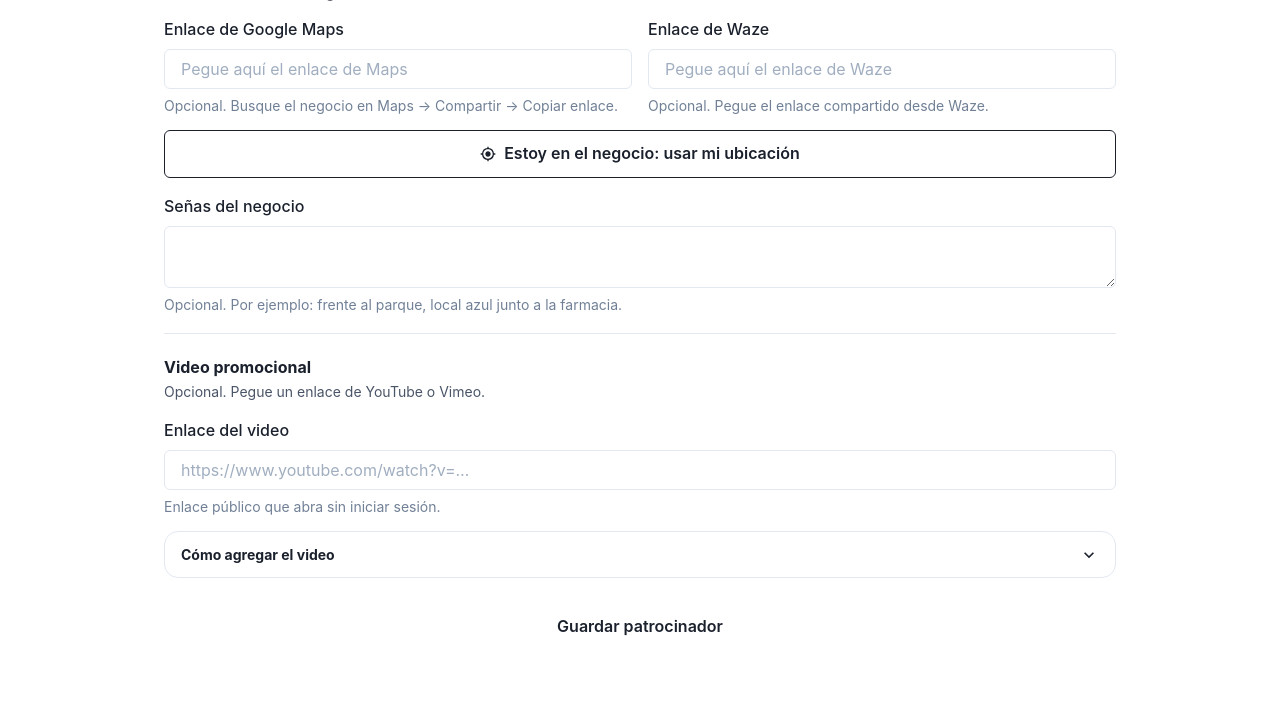
reveals the video error when an unsupported link is in the collapsed section
This screenshot has width=1280, height=710.
(page scrolled)
Step 1. Click the button "Cómo agregar el video" → (258, 555), box [165, 532, 1115, 577]
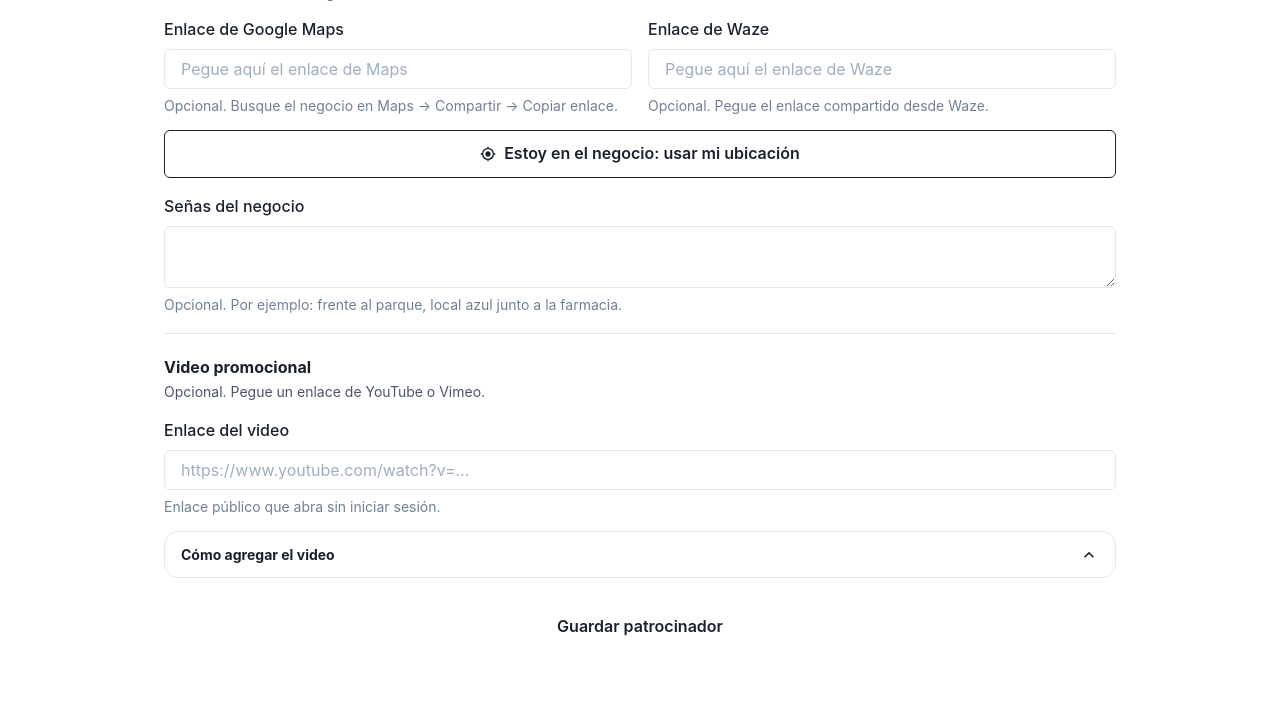
Step 2. Type "https://drive.google.com/file/d/123" into the field labelled "Enlace del video" → (640, 470), box [164, 450, 1116, 490]
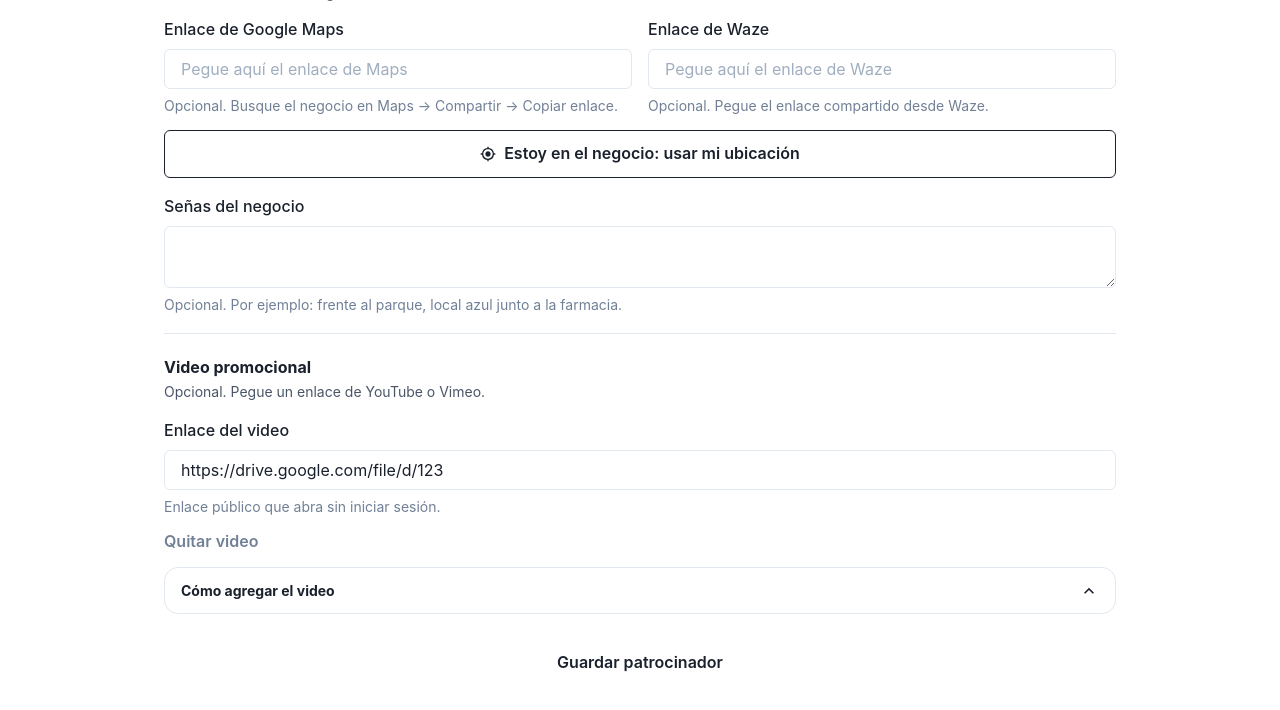
Step 3. Click the button "Cómo agregar el video" → (258, 591), box [165, 568, 1115, 613]
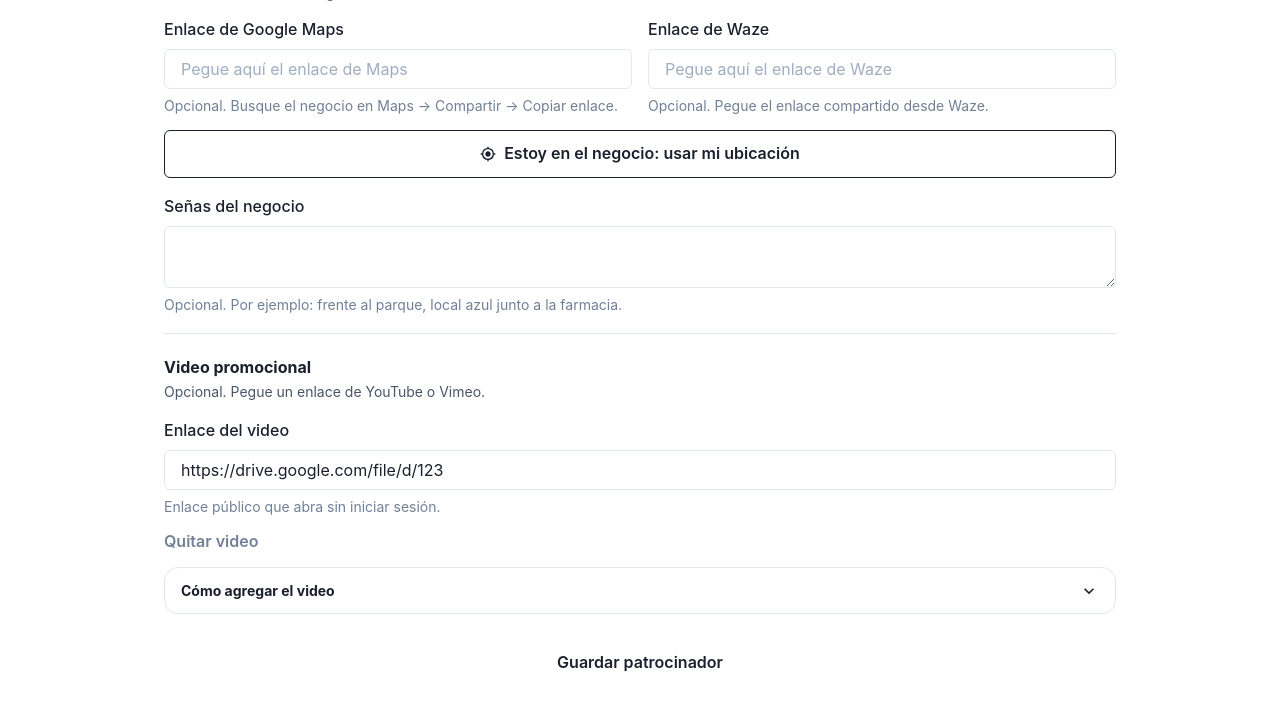
Step 4. Click the button "Guardar patrocinador" → (640, 662), box [164, 638, 1116, 686]
(page scrolled)
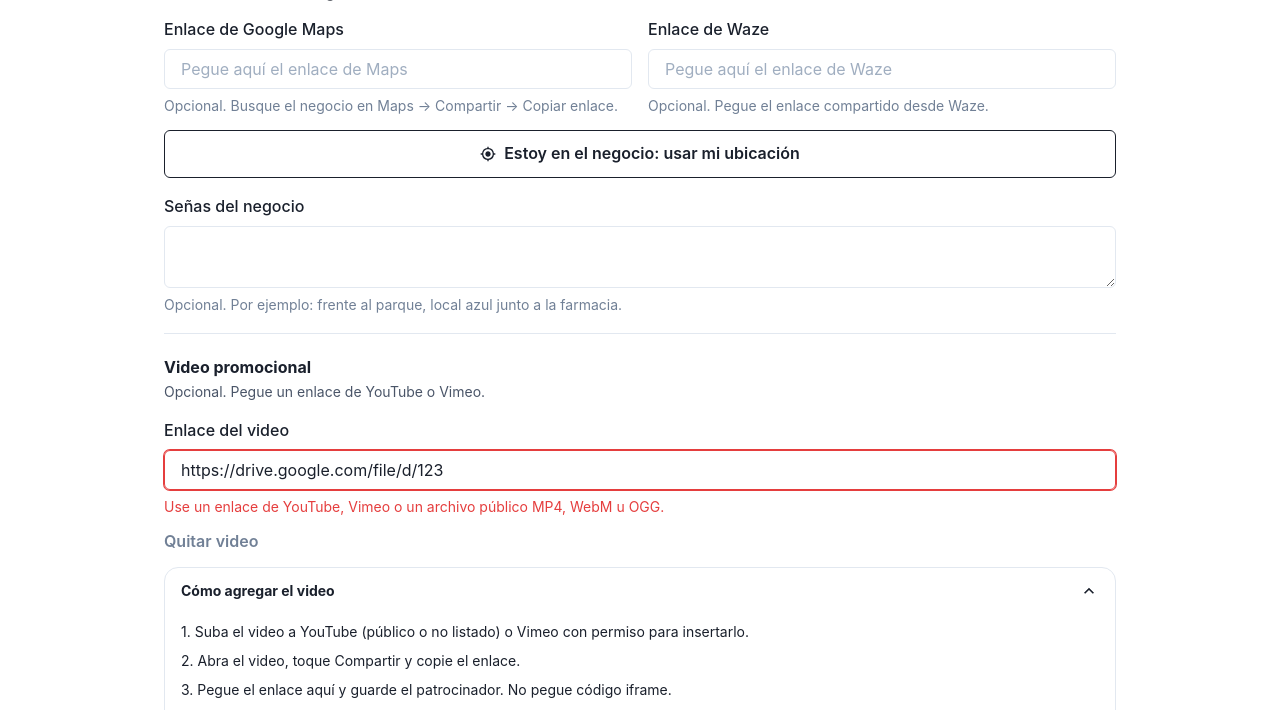
Expected: the text "Use un enlace de YouTube, Vimeo o un archivo público MP4, WebM u OGG." is shown, [164, 498, 664, 515]
Expected: the button "Cómo agregar el video" is expanded, [165, 568, 1115, 613]
